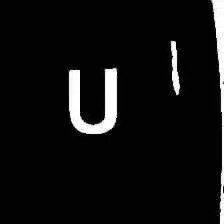LTR_U: (60, 63, 125, 138)
